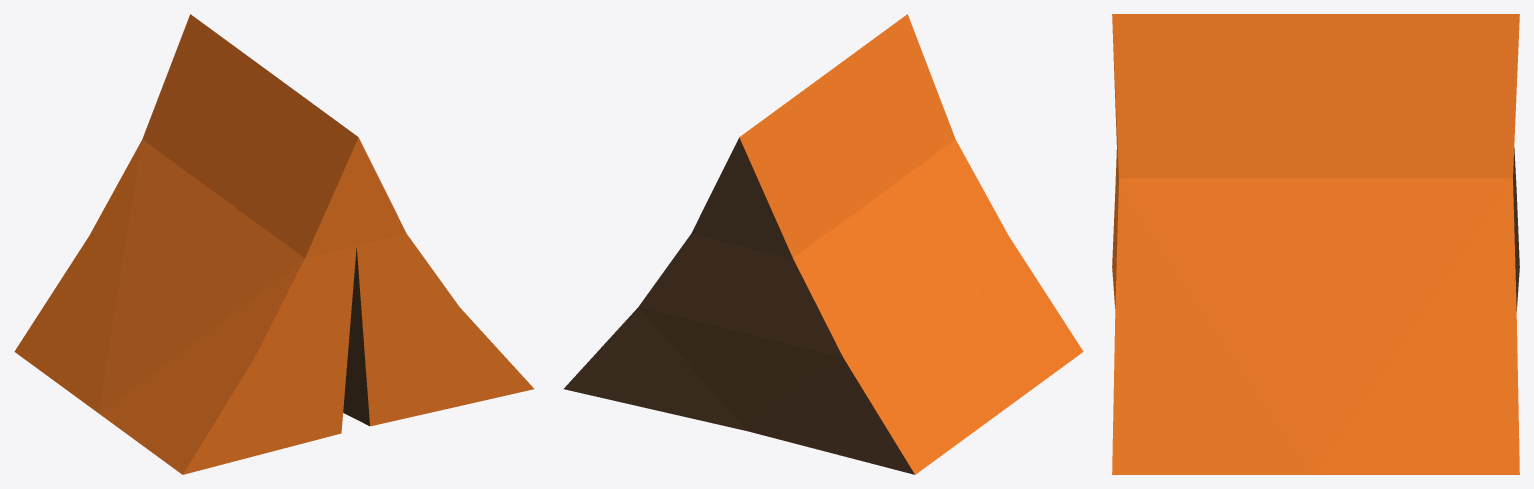
The model's file is tent_orange.glb.
The picture shows the model from 3 angles, left to right: view 1: azimuth 30°, elevation 25°; view 2: azimuth 150°, elevation 25°; view 3: azimuth 270°, elevation 25°; orthographic projection. The views are drawn at different scales.
Parts seen in each view (by area): view 1: tent_orange; view 2: tent_orange; view 3: tent_orange.
Boxes of the visible parts, x1=… form: tent_orange: x1=14, y1=14, x2=534, y2=474; tent_orange: x1=563, y1=14, x2=1083, y2=474; tent_orange: x1=1112, y1=14, x2=1519, y2=474.
Bounding box in the file's own units: 2.81 × 2.25 × 2.33.
Materials: 1 (1 with a texture image).
